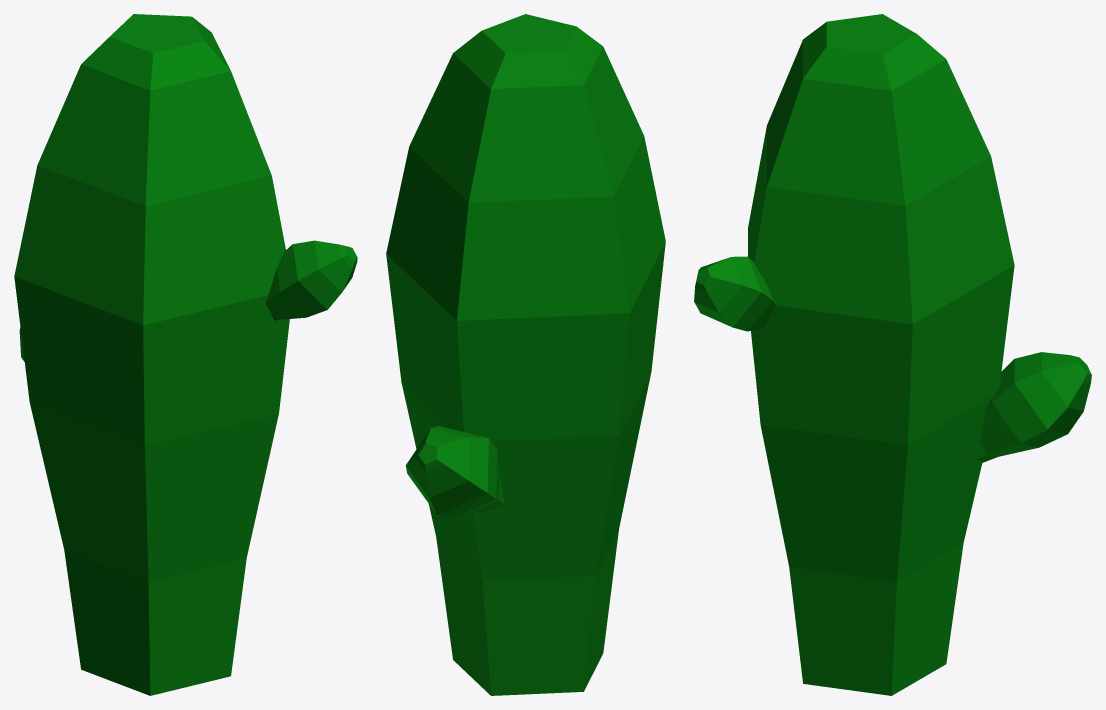
Rendered from Cactus3.fbx.
3 renders of one model, left to right at view 1: azimuth 30°, elevation 25°; view 2: azimuth 150°, elevation 25°; view 3: azimuth 270°, elevation 25°, orthographic.
Parts seen in each view (by area): view 1: Circle.002; view 2: Circle.002; view 3: Circle.002.
Part boxes in pixels (left/top/right/bottom): Circle.002: left=14, top=14, right=357, bottom=695; Circle.002: left=386, top=14, right=665, bottom=695; Circle.002: left=694, top=14, right=1091, bottom=695.
Bounding box in the file's own units: 354 × 878 × 502.
